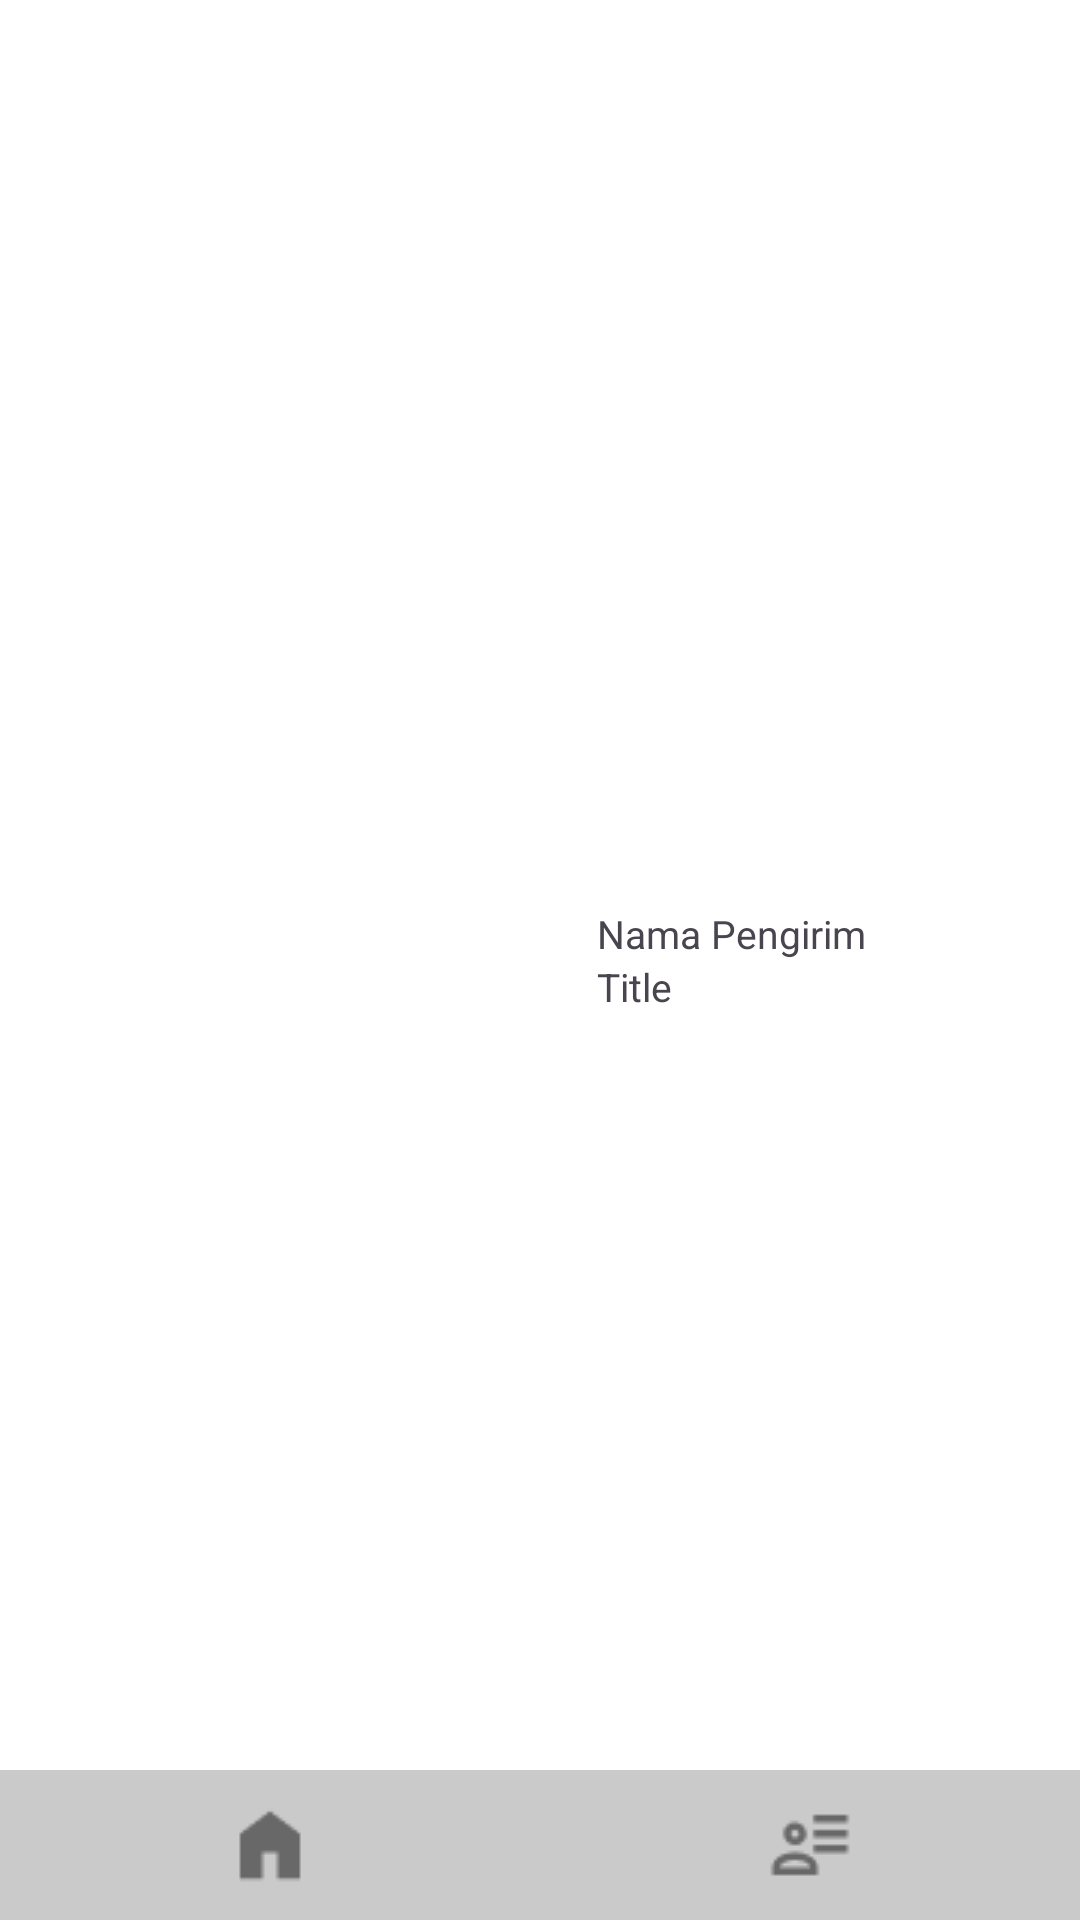

Locate icon controls on the screen. Image size 1080 x 1920, boxes as box(x1, y1, x2, y2).
detail: box(771, 1814, 849, 1876)
home: box(239, 1811, 301, 1880)
